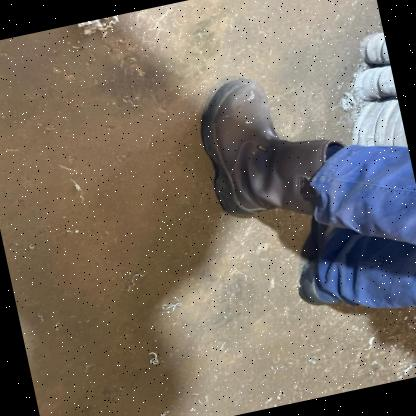bota: (186, 49, 360, 241)
